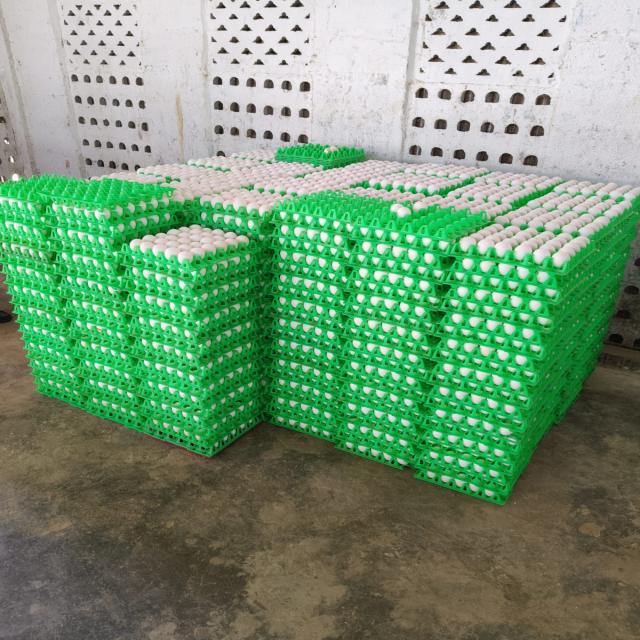egg_tray: (437, 223, 630, 420), (340, 203, 484, 466), (131, 225, 261, 445), (417, 361, 588, 501), (449, 211, 628, 336), (18, 176, 155, 337), (132, 160, 408, 233), (267, 193, 348, 440), (14, 250, 125, 406), (419, 375, 565, 492), (427, 334, 575, 449), (137, 310, 262, 445), (428, 334, 582, 441), (170, 170, 431, 233), (442, 225, 588, 331), (460, 183, 639, 267), (125, 243, 259, 355), (351, 200, 487, 307), (417, 386, 550, 493), (431, 329, 582, 422), (415, 0, 576, 86), (50, 187, 174, 298), (125, 224, 259, 326), (441, 276, 582, 366), (199, 163, 380, 233), (271, 192, 362, 324), (139, 333, 262, 427), (138, 334, 262, 427), (447, 172, 639, 232), (141, 352, 263, 445), (140, 350, 263, 442), (121, 221, 263, 300), (2, 256, 79, 401), (148, 164, 308, 232), (341, 316, 430, 437), (139, 161, 406, 201), (136, 372, 263, 456), (339, 337, 422, 464), (414, 423, 543, 504), (123, 224, 262, 299), (64, 287, 139, 425), (272, 194, 394, 277), (49, 180, 174, 259), (554, 275, 621, 422), (206, 0, 314, 90), (356, 201, 485, 274), (341, 306, 436, 405), (344, 297, 438, 396), (554, 279, 619, 422), (265, 250, 346, 363), (342, 296, 438, 389), (461, 207, 607, 266), (441, 305, 581, 366), (132, 313, 263, 377), (185, 209, 270, 307), (126, 275, 259, 337), (378, 173, 562, 217), (126, 276, 259, 336), (341, 316, 430, 404), (492, 181, 639, 234), (336, 378, 423, 466), (71, 319, 140, 426), (340, 366, 421, 456), (266, 318, 341, 415), (346, 256, 447, 328), (138, 398, 263, 456), (267, 273, 343, 368), (271, 192, 371, 263), (14, 304, 85, 403), (266, 320, 340, 414), (414, 445, 528, 504), (270, 203, 349, 288), (58, 254, 129, 346), (266, 353, 340, 441), (265, 355, 340, 440), (265, 356, 340, 441), (14, 303, 82, 396), (344, 185, 534, 218), (57, 252, 128, 340), (92, 165, 251, 204), (51, 210, 174, 260), (71, 321, 139, 411), (200, 163, 314, 216), (39, 178, 171, 223), (49, 185, 171, 233), (59, 254, 129, 337), (98, 162, 321, 188), (495, 194, 631, 236), (59, 3, 142, 71), (53, 230, 126, 301), (346, 187, 513, 218), (504, 194, 630, 234), (274, 189, 379, 236), (253, 161, 397, 195), (265, 308, 341, 372), (588, 234, 633, 342), (342, 186, 498, 217), (240, 161, 382, 195), (2, 253, 65, 329), (365, 166, 487, 205), (475, 172, 639, 201), (336, 410, 417, 468), (194, 188, 293, 235), (130, 224, 249, 263), (446, 177, 562, 216), (266, 314, 341, 373), (474, 172, 632, 200), (188, 185, 282, 232), (0, 237, 59, 311), (267, 270, 345, 325), (78, 352, 140, 421), (142, 165, 251, 204), (383, 188, 513, 218), (0, 184, 50, 261), (265, 307, 342, 355), (340, 160, 469, 188), (28, 350, 90, 408), (139, 161, 322, 180), (370, 163, 489, 192), (91, 171, 184, 208), (7, 277, 68, 332), (0, 182, 49, 250), (2, 255, 60, 312), (14, 296, 73, 352), (70, 325, 137, 374), (0, 174, 86, 212), (340, 186, 443, 217), (168, 172, 251, 210), (92, 163, 241, 184), (451, 259, 523, 302), (306, 160, 406, 190), (342, 186, 441, 216), (264, 398, 333, 441), (413, 192, 518, 220), (271, 224, 348, 262), (413, 191, 513, 218), (336, 432, 411, 468), (29, 362, 87, 407), (0, 221, 53, 270), (207, 410, 263, 456), (179, 157, 322, 175), (322, 160, 410, 187), (32, 366, 87, 408), (275, 144, 365, 169), (78, 396, 142, 430), (368, 174, 465, 195), (135, 163, 241, 182), (321, 159, 411, 181), (474, 171, 564, 193), (552, 180, 639, 202), (253, 175, 344, 196), (473, 171, 564, 192), (0, 178, 43, 220), (0, 232, 53, 266), (239, 162, 322, 183), (275, 143, 355, 164), (0, 104, 21, 183), (239, 161, 323, 180), (403, 163, 489, 180), (187, 156, 261, 171), (91, 171, 166, 185), (356, 245, 396, 268), (277, 266, 319, 286), (351, 241, 376, 267), (17, 177, 66, 190), (229, 149, 275, 162), (327, 281, 348, 302), (468, 362, 491, 379), (578, 275, 597, 294), (39, 208, 57, 228), (585, 221, 603, 233), (385, 322, 404, 333), (229, 78, 244, 91), (124, 376, 137, 390), (274, 298, 290, 309), (306, 378, 323, 388), (467, 476, 484, 486), (323, 145, 340, 155), (278, 198, 298, 206), (368, 366, 388, 374), (496, 290, 510, 301), (462, 239, 476, 250), (307, 377, 323, 386), (147, 166, 166, 173), (213, 78, 223, 91), (421, 168, 442, 174), (565, 278, 576, 288), (453, 463, 465, 472), (582, 303, 589, 318), (308, 377, 319, 386), (356, 190, 374, 195), (354, 285, 366, 292), (443, 168, 459, 173), (214, 158, 227, 164), (431, 263, 444, 269), (418, 474, 433, 479), (399, 268, 407, 277), (283, 81, 291, 90), (264, 80, 273, 88), (418, 474, 432, 479), (524, 284, 538, 289), (217, 274, 224, 284), (30, 270, 37, 280), (158, 190, 167, 197), (582, 309, 589, 318), (349, 198, 359, 204), (295, 293, 303, 300), (25, 336, 32, 344), (377, 243, 388, 248), (112, 174, 125, 178), (556, 210, 563, 217), (41, 195, 48, 202), (25, 267, 32, 274), (320, 278, 326, 286), (582, 310, 588, 318), (485, 190, 491, 198), (21, 255, 30, 260), (283, 276, 294, 280), (476, 170, 487, 174), (468, 245, 475, 251), (27, 258, 34, 264), (577, 327, 583, 334), (235, 184, 245, 188), (399, 209, 407, 214), (327, 423, 332, 431), (152, 219, 160, 224), (282, 264, 290, 269), (16, 308, 21, 316), (388, 165, 396, 170), (315, 258, 324, 262), (353, 297, 360, 302), (578, 299, 583, 306), (78, 183, 83, 190), (392, 232, 400, 236), (581, 230, 589, 234), (278, 188, 286, 192), (325, 288, 330, 294), (208, 398, 214, 403), (274, 301, 279, 307), (405, 296, 411, 301), (92, 371, 97, 377), (388, 166, 395, 170), (296, 251, 303, 255), (205, 158, 214, 161), (377, 241, 382, 246), (276, 346, 281, 351), (614, 207, 620, 211), (397, 247, 405, 250), (401, 210, 407, 214), (553, 385, 559, 389), (567, 282, 571, 288), (500, 214, 508, 217), (484, 192, 490, 196), (206, 220, 214, 223), (189, 378, 195, 382), (372, 449, 378, 453), (512, 428, 520, 431), (88, 365, 94, 369), (266, 367, 269, 374), (74, 211, 81, 214), (583, 293, 586, 300), (479, 193, 489, 195), (293, 256, 297, 261), (221, 378, 226, 382), (505, 206, 510, 210), (276, 410, 281, 414), (605, 222, 609, 227), (327, 289, 332, 293), (327, 211, 331, 216), (241, 263, 245, 268), (116, 363, 120, 368), (578, 362, 582, 367), (259, 185, 263, 190), (445, 318, 450, 322), (429, 191, 435, 194), (414, 250, 417, 256), (500, 376, 506, 379), (87, 211, 93, 214), (575, 380, 581, 383), (347, 363, 349, 372), (267, 367, 269, 376), (427, 346, 433, 349), (267, 189, 275, 191), (136, 232, 140, 236), (38, 318, 42, 322), (618, 270, 622, 274), (245, 70, 249, 74), (113, 349, 117, 353), (550, 178, 558, 180), (426, 352, 430, 356), (287, 276, 292, 279), (497, 220, 502, 223), (186, 215, 189, 220), (339, 266, 342, 271), (557, 212, 562, 215), (454, 469, 459, 472), (629, 212, 634, 215), (252, 402, 257, 405), (13, 246, 18, 249), (329, 425, 332, 430), (442, 475, 447, 478), (476, 232, 483, 234), (15, 115, 17, 122), (278, 163, 285, 165), (17, 294, 19, 301), (316, 394, 322, 396), (327, 296, 330, 300), (372, 282, 375, 286), (276, 211, 279, 215), (72, 78, 76, 81), (477, 170, 483, 172), (400, 406, 403, 410), (332, 260, 336, 263), (456, 390, 462, 392), (564, 332, 567, 336), (534, 274, 537, 278), (485, 261, 489, 264), (491, 487, 495, 490), (385, 458, 388, 462), (106, 368, 109, 372), (565, 332, 567, 338), (195, 194, 201, 196), (523, 197, 526, 201), (273, 352, 276, 356), (358, 445, 364, 447), (301, 88, 305, 91), (85, 338, 88, 342), (504, 208, 508, 211), (252, 402, 256, 405), (477, 235, 482, 237), (112, 189, 114, 194), (325, 171, 330, 173), (491, 297, 493, 302), (421, 385, 423, 390), (598, 221, 603, 223), (578, 186, 580, 191), (182, 185, 187, 187), (323, 332, 325, 337), (390, 352, 392, 357), (407, 196, 412, 198), (455, 265, 458, 268), (587, 214, 590, 217), (207, 220, 210, 223), (579, 335, 582, 338), (330, 375, 333, 378), (278, 353, 281, 356), (578, 329, 581, 332), (568, 319, 571, 322), (307, 88, 310, 91), (124, 420, 127, 423), (324, 293, 326, 297), (332, 266, 334, 270), (356, 243, 358, 247), (367, 228, 369, 232), (303, 196, 307, 198), (591, 361, 593, 365), (148, 422, 150, 426), (54, 196, 58, 198), (461, 242, 465, 244), (572, 368, 574, 372), (576, 214, 578, 218), (367, 190, 371, 192), (91, 398, 95, 400), (203, 294, 207, 296), (499, 446, 503, 448), (394, 246, 398, 248), (252, 180, 256, 182), (223, 93, 227, 95), (486, 208, 488, 212), (277, 372, 279, 375), (238, 347, 240, 350), (394, 302, 397, 304), (465, 262, 468, 264), (458, 484, 461, 486), (195, 264, 198, 266), (79, 300, 82, 302), (288, 409, 290, 412), (473, 438, 476, 440), (117, 180, 123, 181), (608, 209, 610, 212), (574, 341, 577, 343), (383, 456, 386, 458), (586, 372, 589, 374), (602, 327, 605, 329), (172, 185, 178, 186), (243, 168, 246, 170), (180, 374, 183, 376), (145, 228, 148, 230), (478, 188, 481, 190), (487, 489, 490, 491), (251, 72, 253, 75), (347, 363, 349, 366), (148, 423, 150, 426), (577, 359, 579, 362), (381, 426, 383, 429), (384, 400, 387, 402), (454, 178, 459, 179), (387, 205, 388, 210), (572, 274, 577, 275), (132, 306, 133, 311), (479, 202, 481, 204), (19, 223, 23, 224), (397, 163, 399, 165), (385, 400, 387, 402), (577, 258, 579, 260), (203, 294, 207, 295), (232, 372, 236, 373), (499, 209, 501, 211), (282, 407, 286, 408), (276, 310, 278, 312), (473, 402, 477, 403), (559, 384, 561, 386), (579, 380, 581, 382), (583, 318, 585, 320), (603, 216, 605, 218), (329, 322, 331, 324), (544, 318, 548, 319), (310, 353, 312, 355), (341, 276, 343, 278), (202, 218, 204, 220), (109, 363, 113, 364), (21, 287, 23, 289), (343, 431, 345, 433), (228, 159, 230, 161), (421, 212, 423, 214), (528, 196, 532, 197), (434, 258, 436, 260), (409, 249, 411, 251), (578, 327, 580, 329), (109, 389, 113, 390), (94, 338, 96, 340), (407, 331, 409, 333), (380, 400, 382, 402), (248, 176, 251, 177), (425, 166, 428, 167), (310, 352, 313, 353), (374, 454, 377, 455), (371, 430, 372, 433), (401, 293, 404, 294), (159, 227, 162, 228), (329, 292, 332, 293), (570, 324, 571, 327), (425, 331, 428, 332), (518, 220, 519, 222), (328, 398, 330, 399), (324, 292, 326, 293), (409, 249, 411, 250), (431, 398, 433, 399), (389, 163, 391, 164), (499, 226, 501, 227), (86, 80, 88, 81), (140, 286, 141, 288), (284, 302, 285, 304), (334, 293, 335, 295), (325, 372, 326, 374), (196, 220, 198, 221), (116, 398, 118, 399), (112, 385, 114, 386), (141, 325, 143, 326), (135, 243, 137, 244), (311, 168, 313, 169), (66, 292, 68, 293), (49, 282, 50, 284), (30, 364, 31, 366), (225, 82, 226, 84), (302, 76, 304, 77), (451, 238, 453, 239), (467, 226, 468, 228), (355, 160, 357, 161), (311, 284, 312, 285), (191, 198, 192, 199), (247, 343, 248, 344), (419, 294, 420, 295), (501, 491, 502, 492), (487, 494, 488, 495), (323, 289, 324, 290), (449, 358, 450, 359), (196, 180, 197, 181), (4, 236, 5, 237), (507, 447, 508, 448), (571, 398, 572, 399), (268, 216, 269, 217), (407, 189, 408, 190), (518, 385, 519, 386), (560, 227, 561, 228), (381, 460, 382, 461), (582, 183, 583, 184), (0, 254, 1, 255), (387, 460, 388, 461), (329, 381, 330, 382), (258, 94, 259, 95), (362, 158, 363, 159), (585, 342, 586, 343), (531, 225, 534, 225), (321, 323, 323, 323), (313, 323, 315, 323), (276, 372, 278, 372), (310, 281, 312, 281), (142, 170, 144, 170), (206, 443, 208, 443), (202, 443, 205, 443), (387, 310, 389, 310), (414, 232, 414, 232), (441, 470, 445, 470), (214, 176, 214, 178), (481, 240, 481, 241), (503, 250, 504, 250), (171, 310, 173, 310), (168, 294, 168, 294), (498, 381, 499, 381), (412, 176, 412, 178), (405, 170, 406, 170), (574, 261, 575, 261), (245, 170, 246, 170), (241, 368, 241, 368), (18, 310, 19, 310), (116, 185, 116, 189), (278, 408, 279, 408), (478, 401, 478, 401), (596, 332, 596, 333), (603, 325, 603, 330), (589, 312, 590, 312), (550, 344, 550, 346), (354, 388, 354, 390), (103, 181, 105, 181), (579, 280, 579, 282), (229, 272, 230, 272), (474, 170, 476, 170), (480, 285, 482, 285), (567, 225, 568, 225), (247, 272, 251, 272), (418, 392, 419, 392), (196, 192, 203, 192), (54, 242, 54, 244), (142, 174, 145, 174), (134, 274, 134, 274), (590, 228, 590, 228), (598, 190, 600, 190), (480, 194, 482, 194), (419, 184, 419, 186), (374, 436, 374, 437), (367, 199, 368, 199), (363, 199, 364, 199), (144, 170, 147, 170), (192, 194, 192, 195), (94, 185, 94, 186), (257, 163, 257, 164), (41, 296, 41, 298), (41, 292, 43, 292), (300, 194, 301, 194), (294, 401, 294, 402), (417, 252, 417, 252), (396, 252, 398, 252), (334, 294, 334, 294), (118, 392, 120, 392), (458, 232, 459, 232), (209, 454, 210, 454), (151, 434, 152, 434)
